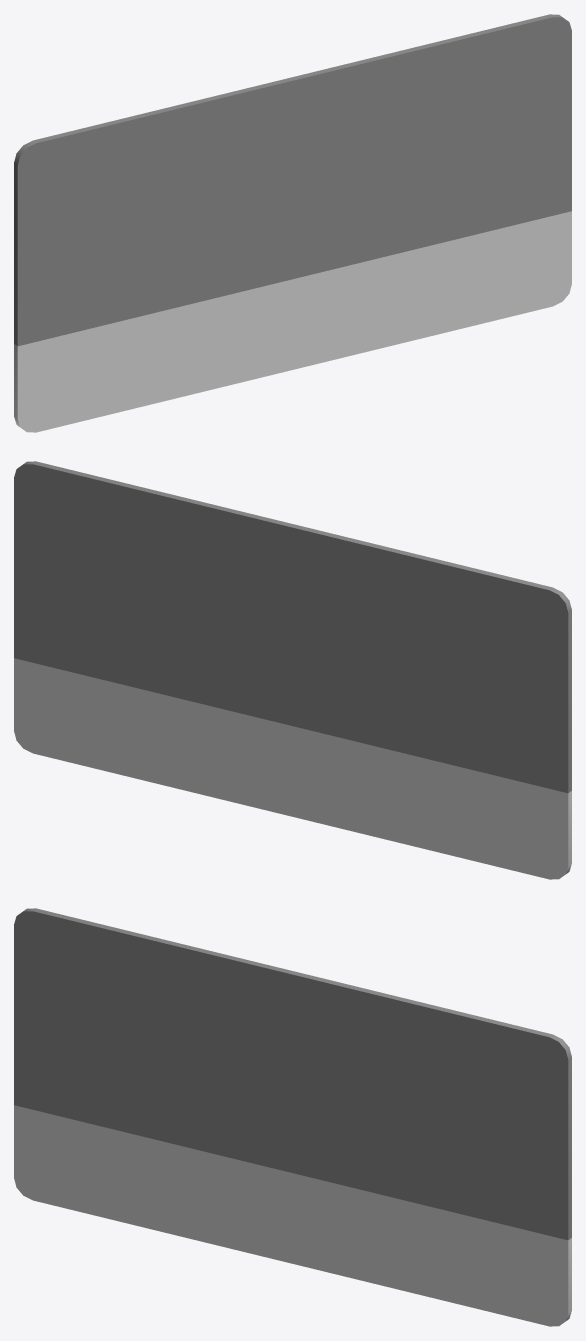
File: menu_title_bg.glb
The picture shows the model from 3 angles, top to bottom: view 1: azimuth 30°, elevation 25°; view 2: azimuth 150°, elevation 25°; view 3: azimuth 330°, elevation 25°; orthographic projection.
Parts seen in each view (by area): view 1: title_plane; view 2: title_plane; view 3: title_plane.
Part boxes in pixels (<box>): title_plane: <box>14,14,571,432</box>; title_plane: <box>14,461,571,879</box>; title_plane: <box>14,908,571,1326</box>.
Size of the model in its own units: 1.6 by 0.7973 by 0.0187.
Materials: 1 (1 with a texture image).
